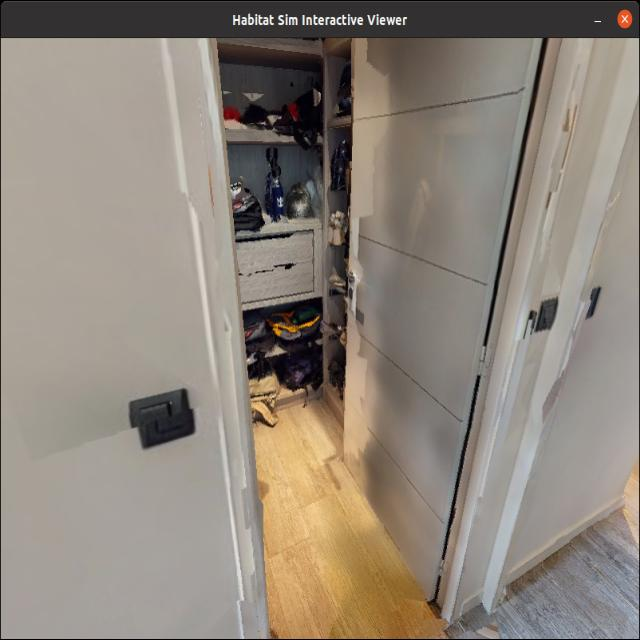door: (348, 61, 478, 576)
door-frame: (158, 34, 508, 640)
